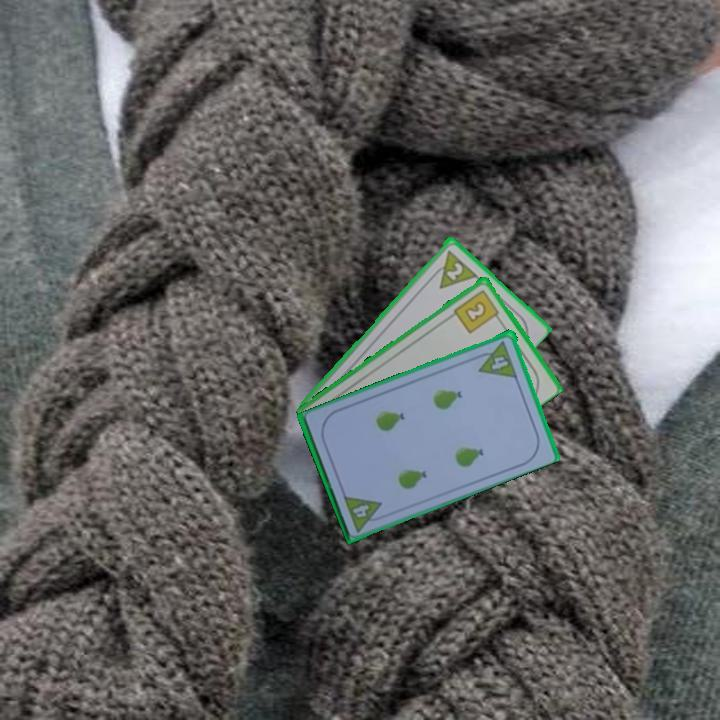2b: (450, 286, 504, 336)
2p: (443, 258, 466, 283)
4p: (340, 492, 390, 535), (471, 337, 520, 380)
